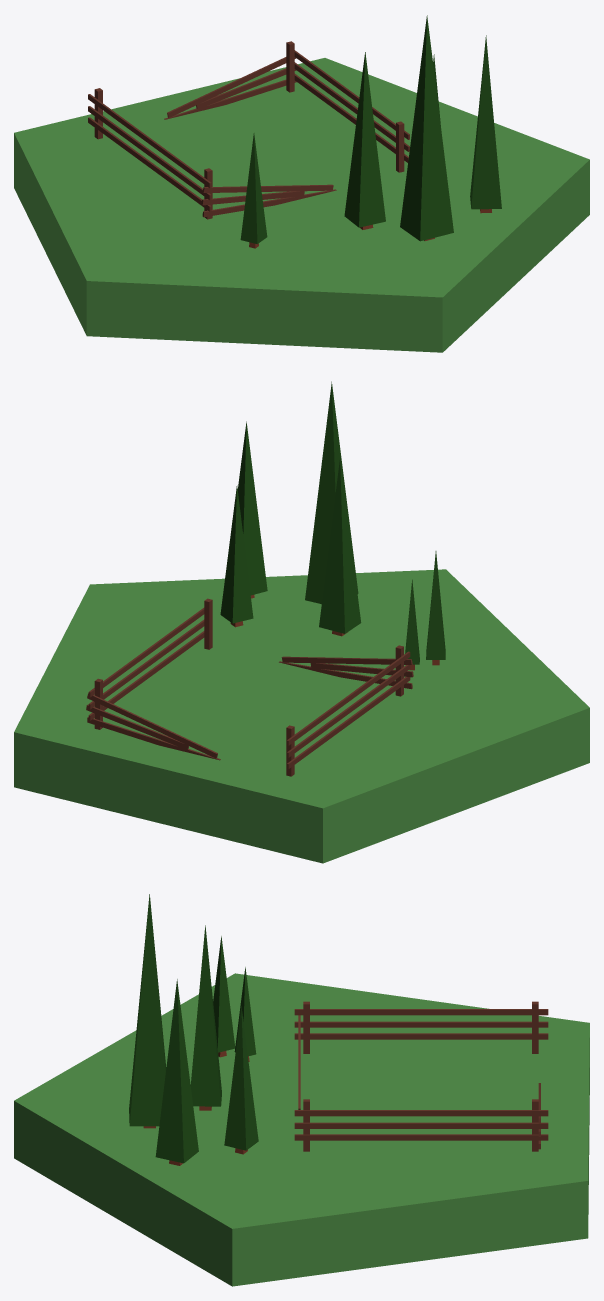
The model's file is Planet_FenceBroken_Pentagon.fbx.
3 renders of one model, top to bottom at view 1: azimuth 30°, elevation 25°; view 2: azimuth 150°, elevation 25°; view 3: azimuth 270°, elevation 25°, orthographic. The views are drawn at different scales.
Parts seen in each view (by area): view 1: polySurface10, pCube44, pCube40, pCube41, pCube34, pCube185, pCube183, pCube184, pCube182, pCube196, pCube186, pCube188 (+6 smaller); view 2: polySurface10, pCube40, pCube44, pCube41, pCube37, pCube34, pCube185, pCube183, pCube184, pCube182, pCube186, pCube188 (+5 smaller); view 3: polySurface10, pCube44, pCube41, pCube40, pCube37, pCube186, pCube188, pCube187, pCube185, pCube184, pCube183, pCube34 (+1 smaller).
Boxes of the visible parts, box(x1,y1,x2,y2) form: polySurface10: box(14, 58, 589, 352); pCube44: box(400, 15, 453, 241); pCube40: box(344, 52, 385, 227); pCube41: box(470, 35, 501, 209); pCube34: box(240, 133, 267, 244); pCube185: box(88, 94, 211, 188); pCube183: box(88, 106, 211, 200); pCube184: box(88, 117, 211, 211); pCube182: box(167, 57, 296, 117); pCube196: box(202, 184, 333, 192); pCube186: box(294, 50, 409, 139); pCube188: box(294, 62, 409, 151); polySurface10: box(14, 569, 589, 863); pCube40: box(319, 457, 361, 633); pCube44: box(305, 381, 358, 603); pCube41: box(237, 421, 267, 595); pCube37: box(220, 485, 253, 623); pCube34: box(426, 551, 445, 659); pCube185: box(286, 651, 410, 745); pCube183: box(286, 665, 410, 757); pCube184: box(286, 676, 410, 768); pCube182: box(87, 693, 217, 758); pCube186: box(88, 607, 204, 697); pCube188: box(88, 619, 204, 709); polySurface10: box(14, 973, 589, 1286); pCube44: box(129, 894, 166, 1126); pCube41: box(155, 979, 198, 1163); pCube40: box(190, 925, 221, 1106); pCube37: box(224, 1006, 258, 1150); pCube186: box(294, 1110, 548, 1116); pCube188: box(294, 1122, 548, 1128); pCube187: box(294, 1134, 548, 1140); pCube185: box(294, 1009, 548, 1015); pCube184: box(294, 1033, 548, 1039); pCube183: box(294, 1021, 548, 1027); pCube34: box(213, 936, 235, 1052).
Bounding box in the file's own units: 5.08 × 2.7 × 4.84.
